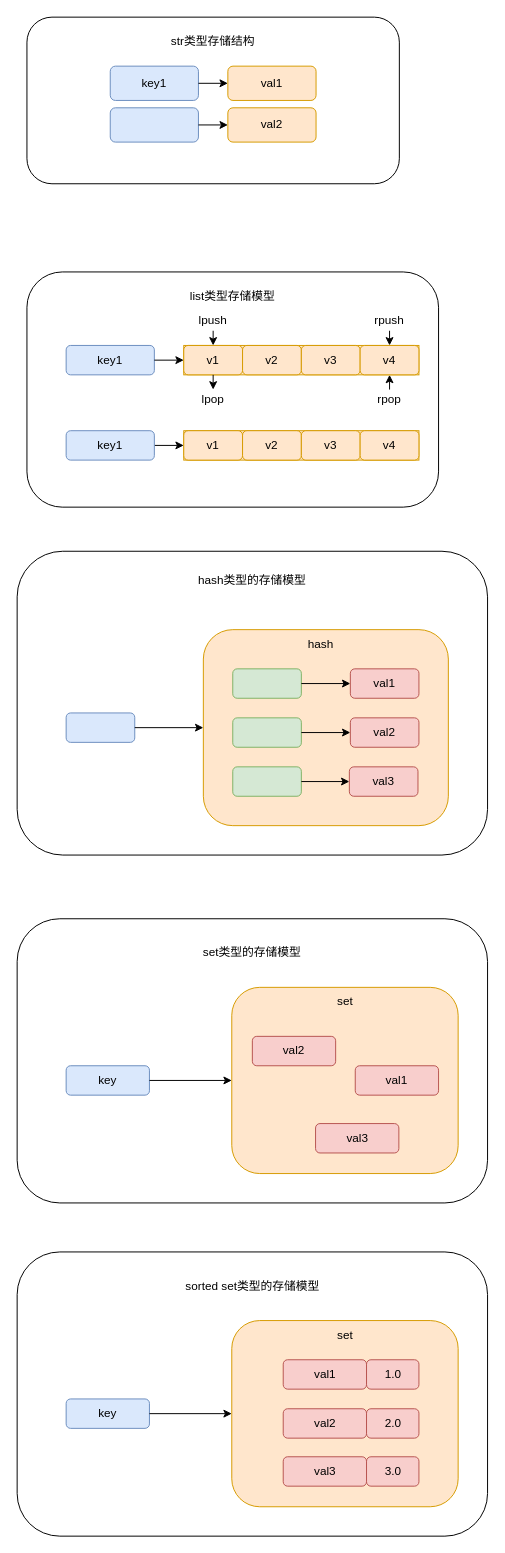
Image size: 505x1553. Some labels were removed from this diagram. Each missing label, with the centre of its shape:
hash-key1: (266,683)
hash-key2: (266,732)
hash-key3: (266,781)
key2: (153,124)
redis-key: (100,727)
